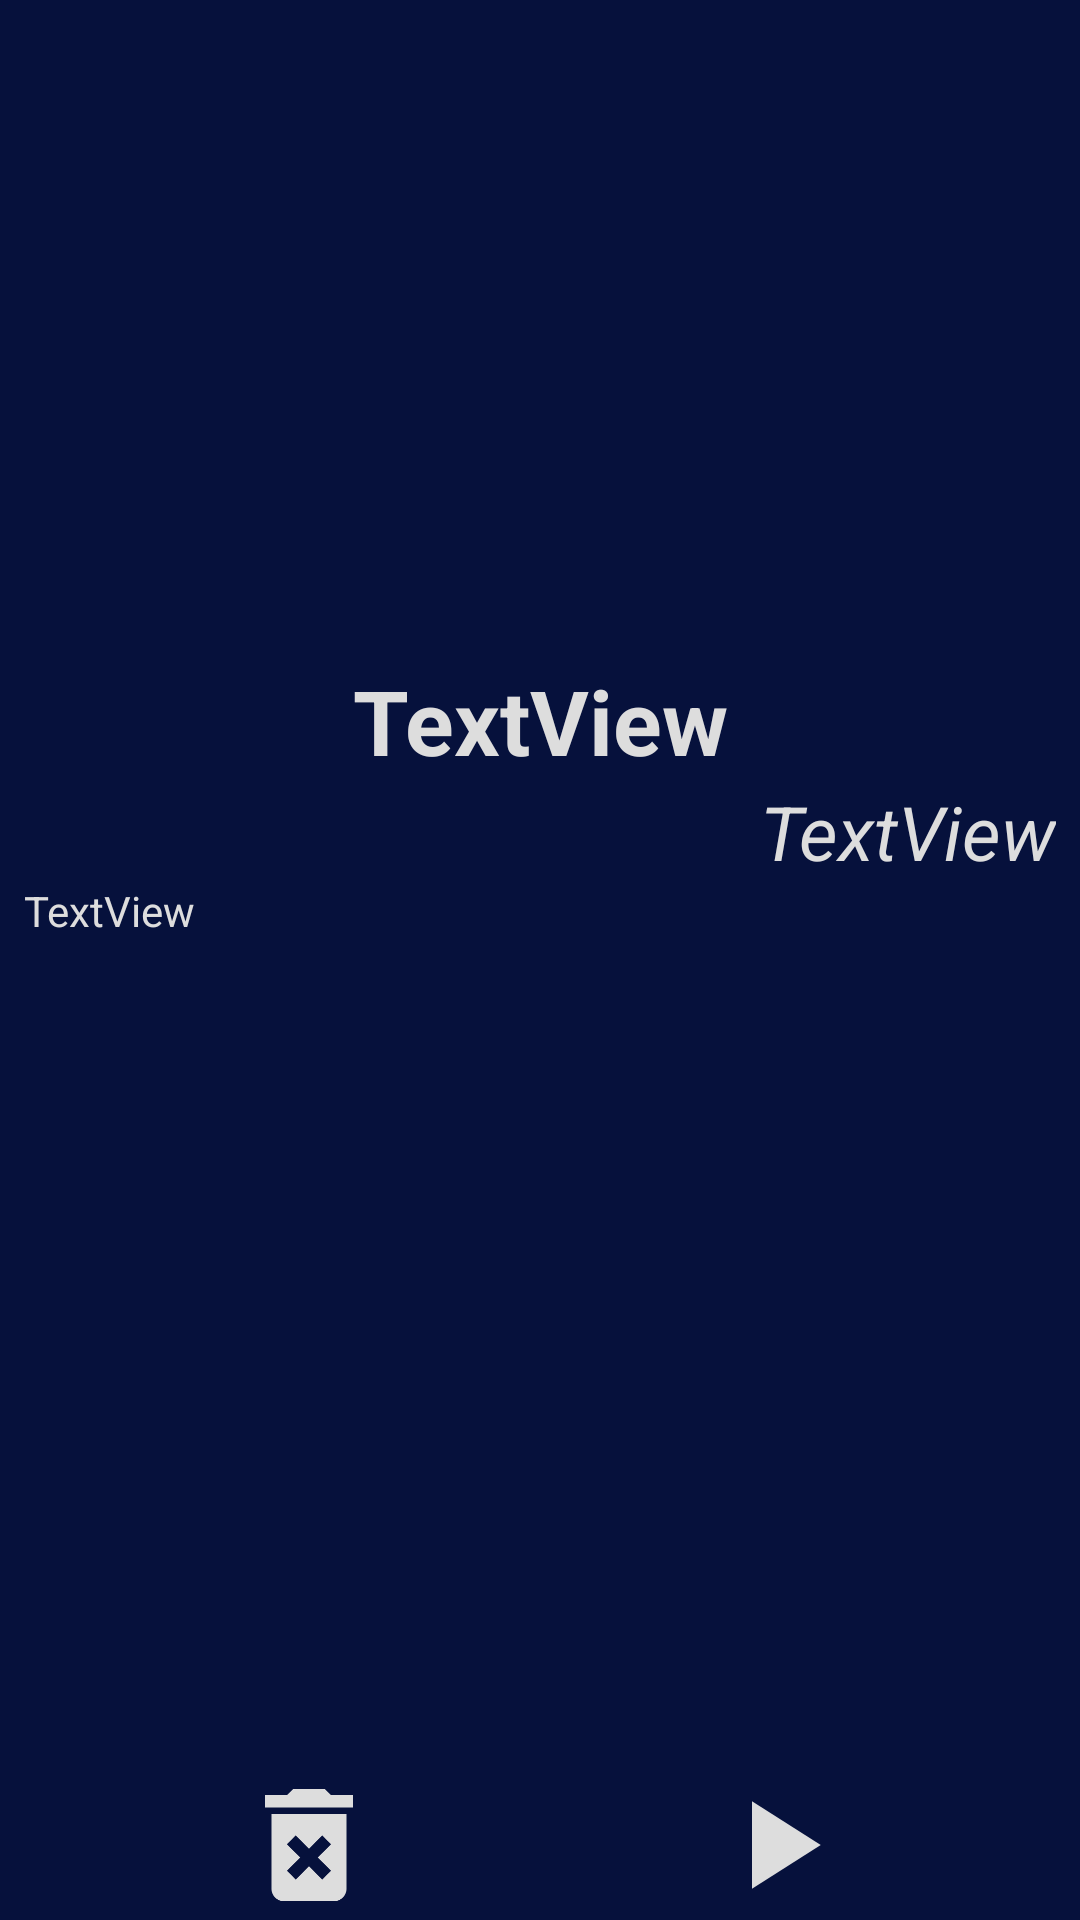

Point at icon controls on the screen. Image size 1080×1920, points as (x=x, y=y).
hapus: (x=309, y=1845)
play: (x=786, y=1845)
